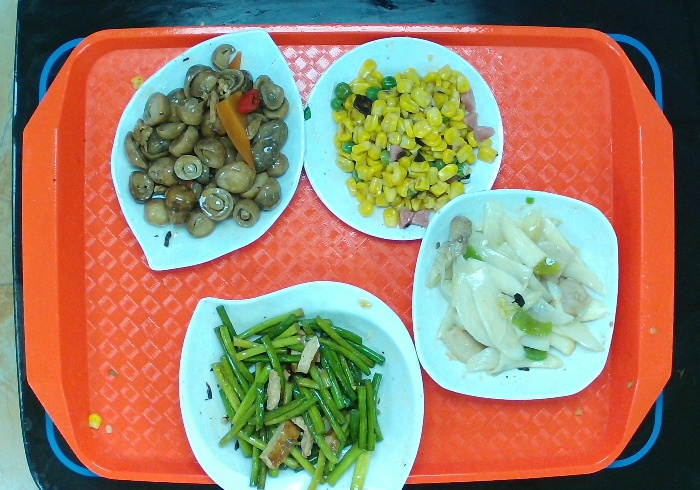RJxy-Da_Du_Pan: (107, 27, 305, 277)
RJxy-Shuang_Jiao_Pan: (175, 276, 425, 490)
RJxy-Si_Fang_Wan: (408, 187, 626, 405)
RJxy-Xiao_Yuan_Die: (302, 35, 508, 248)
